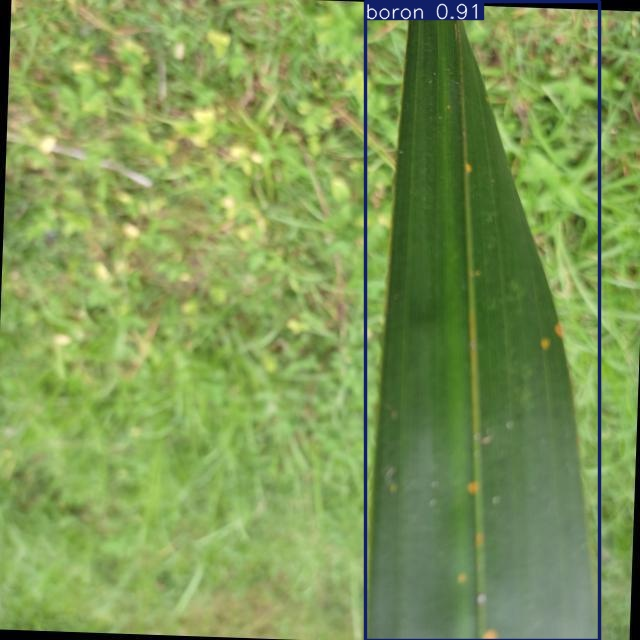nitrogen: (365, 2, 600, 640)
